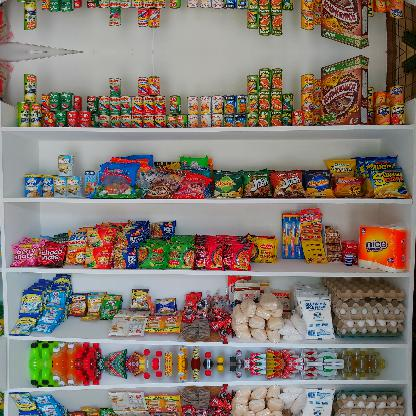Koko-Krunch: (322, 55, 368, 125), (321, 0, 369, 50)
